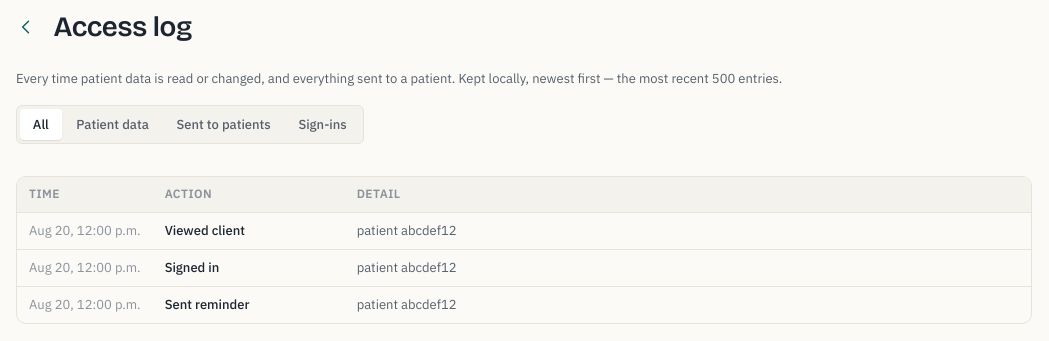
AuditLog › filters to patient data only
Expected: the text "Viewed client" is shown, [153, 213, 345, 250]
What coordinates should you click on to do the following:
click the button "Patient data"
I would click on:
 (113, 125)
Its box is [64, 109, 162, 140].
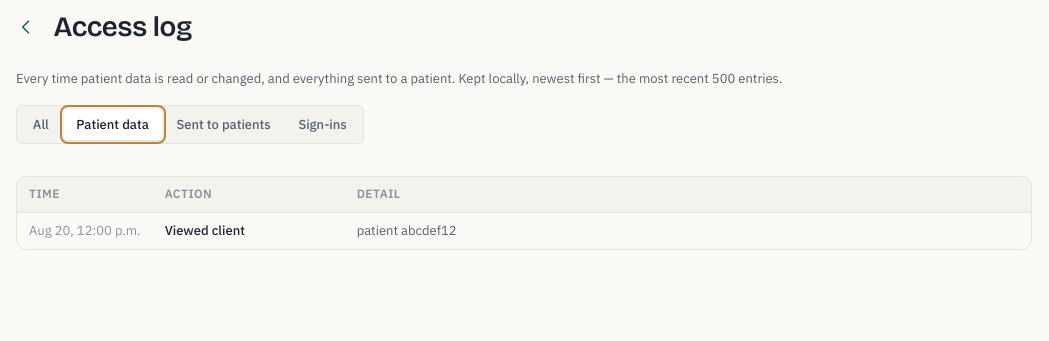
Expected: the text "Viewed client" is shown, [153, 213, 345, 249]
Expected: the text "Signed in" is gone
Expected: the text "Sent reminder" is gone
